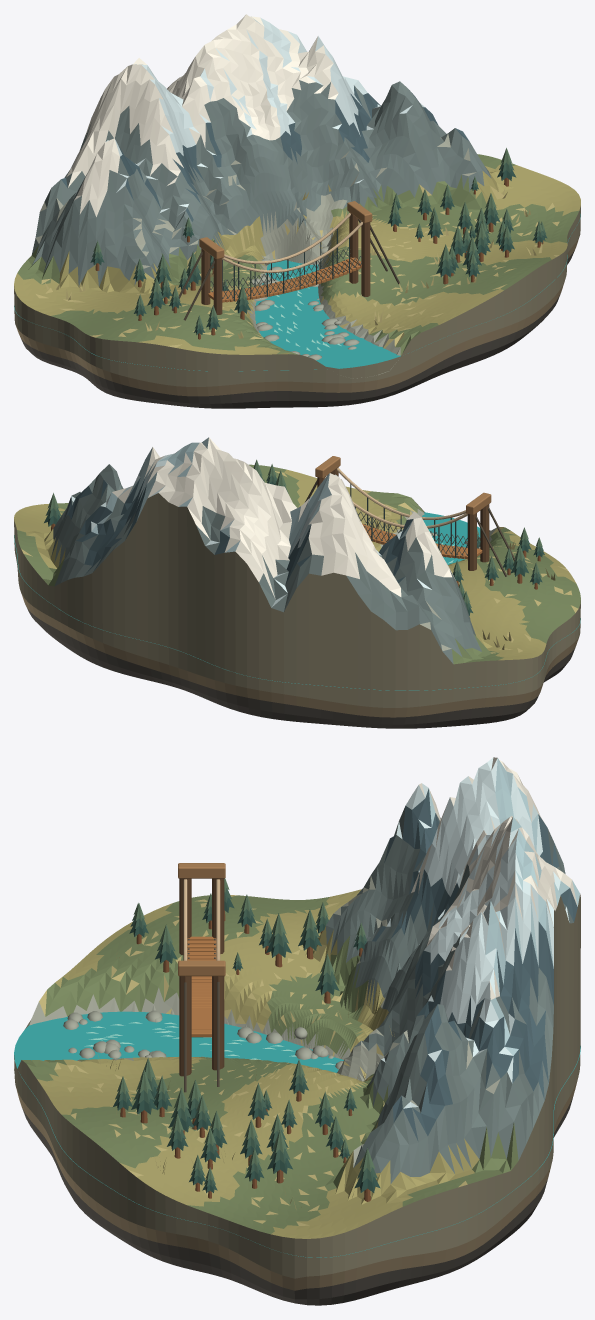
File: hooker_valley.glb
The picture shows the model from 3 angles, top to bottom: view 1: azimuth 30°, elevation 25°; view 2: azimuth 150°, elevation 25°; view 3: azimuth 270°, elevation 25°; orthographic projection. The views are drawn at different scales.
Visible parts, largest first — view 1: HookerValley; view 2: HookerValley; view 3: HookerValley.
Part boxes in pixels (x1,y1,x2,y2): HookerValley: [14, 14, 580, 408]; HookerValley: [14, 437, 580, 728]; HookerValley: [14, 757, 580, 1305].
Size of the model in its own units: 1 by 0.4379 by 0.6835.
